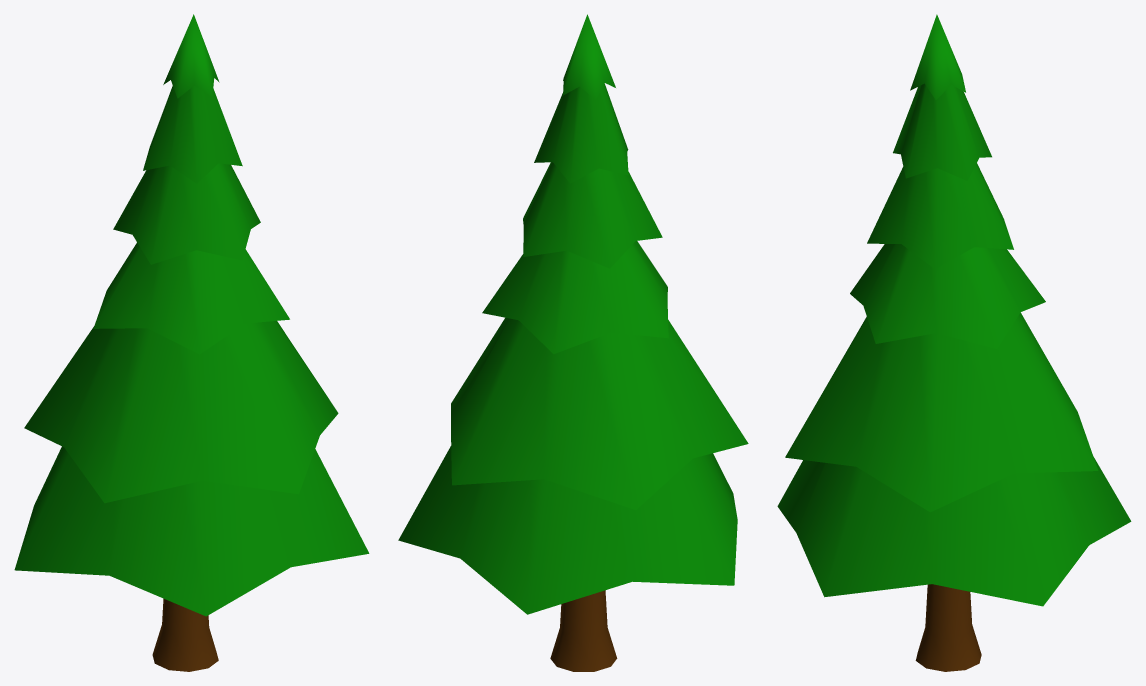
The model's file is tree4.fbx.
The picture shows the model from 3 angles, left to right: view 1: azimuth 30°, elevation 25°; view 2: azimuth 150°, elevation 25°; view 3: azimuth 270°, elevation 25°; orthographic projection.
Parts seen in each view (by area): view 1: Цилиндр.006; view 2: Цилиндр.006; view 3: Цилиндр.006.
Boxes of the visible parts, bbox=[...] form: Цилиндр.006: bbox=[14, 14, 369, 671]; Цилиндр.006: bbox=[398, 14, 748, 671]; Цилиндр.006: bbox=[777, 14, 1131, 671].
Size of the model in its own units: 630 by 1276 by 635.
